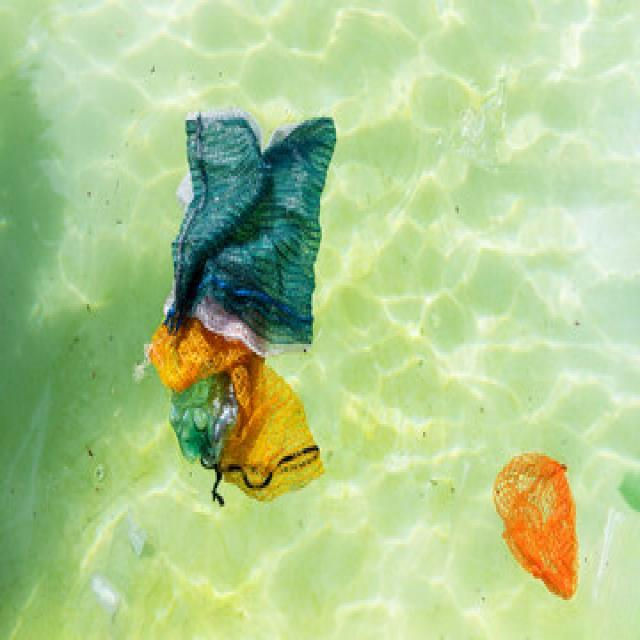Trash: (178, 103, 340, 354), (148, 323, 329, 506), (492, 450, 584, 599)
